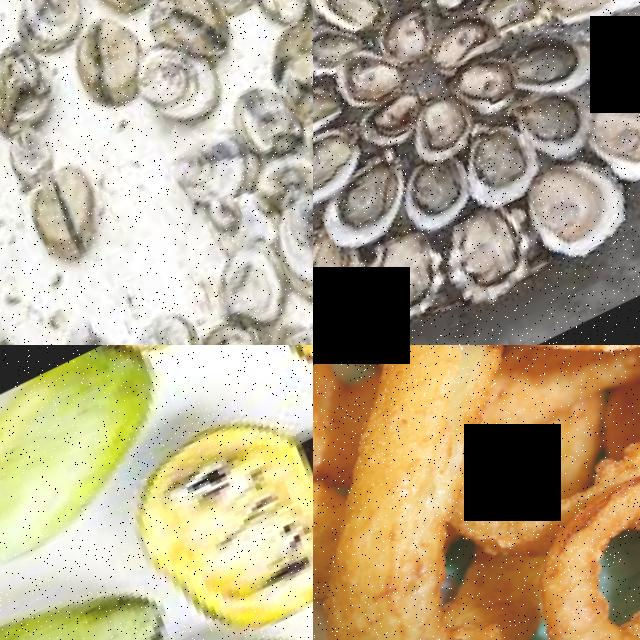oysters: (438, 198, 563, 314), (527, 147, 640, 271), (17, 156, 135, 274), (314, 147, 443, 254), (126, 25, 242, 139), (348, 230, 469, 339), (56, 5, 168, 121), (160, 117, 278, 221), (203, 230, 313, 339), (457, 111, 559, 208), (222, 70, 313, 167), (512, 19, 611, 108), (137, 0, 256, 73), (521, 78, 614, 168), (404, 151, 493, 234), (354, 80, 444, 156), (313, 119, 382, 216), (313, 236, 381, 334), (0, 0, 102, 60), (425, 7, 509, 79), (452, 48, 532, 122), (586, 3, 640, 112), (412, 91, 490, 164), (411, 95, 489, 167), (332, 38, 410, 110), (374, 0, 453, 69), (125, 296, 231, 345), (594, 79, 640, 188), (478, 0, 572, 49), (59, 304, 171, 345), (313, 70, 360, 152), (313, 0, 403, 42), (539, 0, 640, 35)
